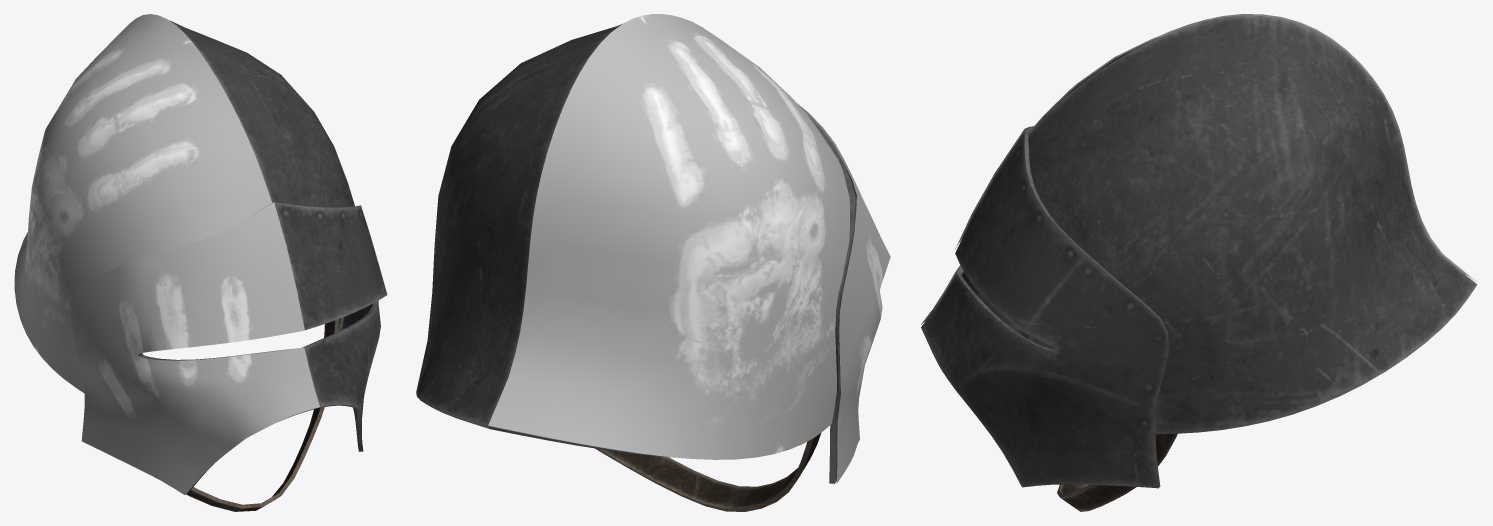
The model's file is sk_uruk_hai_helmet_sword_light_a1.fbx.
3 views of the same model, side by side, from view 1: azimuth 30°, elevation 25°; view 2: azimuth 150°, elevation 25°; view 3: azimuth 270°, elevation 25° (orthographic). The views are drawn at different scales.
Visible parts, largest first — view 1: sk_uruk_hai_helmet_sword_light_a1.0, sk_uruk_hai_helmet_sword_light_a1.2, sk_uruk_hai_helmet_sword_light_a1.1; view 2: sk_uruk_hai_helmet_sword_light_a1.0, sk_uruk_hai_helmet_sword_light_a1.2, sk_uruk_hai_helmet_sword_light_a1.1; view 3: sk_uruk_hai_helmet_sword_light_a1.2, sk_uruk_hai_helmet_sword_light_a1.0, sk_uruk_hai_helmet_sword_light_a1.1.
Boxes of the visible parts, x1,y1,x2,y2 form: sk_uruk_hai_helmet_sword_light_a1.0: (14, 14, 319, 494); sk_uruk_hai_helmet_sword_light_a1.2: (138, 20, 387, 494); sk_uruk_hai_helmet_sword_light_a1.1: (186, 319, 338, 511); sk_uruk_hai_helmet_sword_light_a1.0: (488, 14, 890, 483); sk_uruk_hai_helmet_sword_light_a1.2: (416, 24, 856, 483); sk_uruk_hai_helmet_sword_light_a1.1: (595, 432, 821, 511); sk_uruk_hai_helmet_sword_light_a1.2: (921, 15, 1477, 488); sk_uruk_hai_helmet_sword_light_a1.0: (921, 14, 1476, 324); sk_uruk_hai_helmet_sword_light_a1.1: (1057, 433, 1177, 511).
Bounding box in the file's own units: 0.209 × 0.3248 × 0.3133.
3 materials, 3 textured.
